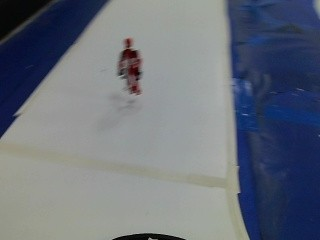pedestrian: (115, 35, 145, 94)
